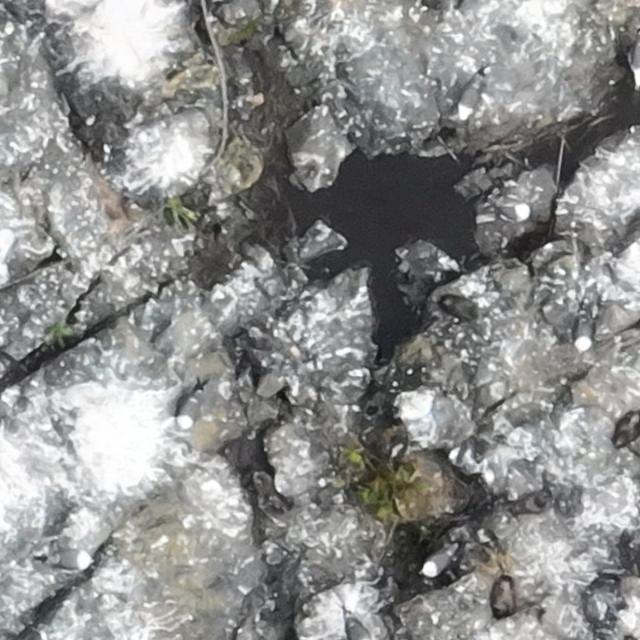umineko: (176, 390, 200, 430), (44, 550, 92, 570), (457, 80, 478, 118), (424, 548, 454, 574), (497, 200, 529, 220), (577, 315, 593, 351), (346, 619, 371, 640)
